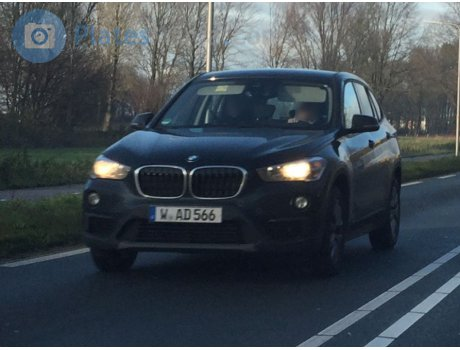License Plates: (156, 206, 220, 221)
